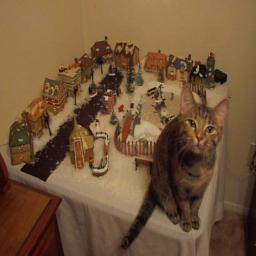catnose: (196, 136, 204, 144)
